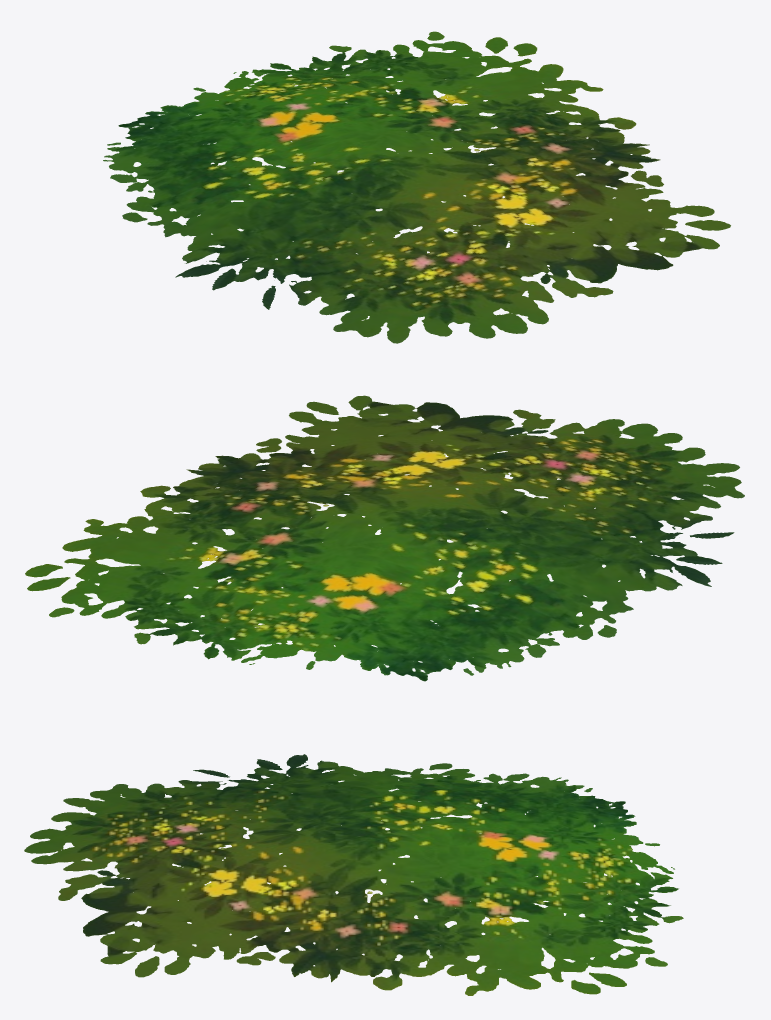
File: SM_Seamoss_01.fbx
The picture shows the model from 3 angles, top to bottom: view 1: azimuth 30°, elevation 25°; view 2: azimuth 150°, elevation 25°; view 3: azimuth 270°, elevation 25°; orthographic projection. The views are drawn at different scales.
Parts seen in each view (by area): view 1: SM_Seamoss_01; view 2: SM_Seamoss_01; view 3: SM_Seamoss_01.
Part boxes in pixels (left/top/right/bottom): SM_Seamoss_01: left=103, top=31, right=730, bottom=343; SM_Seamoss_01: left=25, top=395, right=744, bottom=681; SM_Seamoss_01: left=24, top=754, right=683, bottom=995.
Bounding box in the file's own units: 0.4919 × 0.024 × 0.5855.
1 material, 1 textured.
